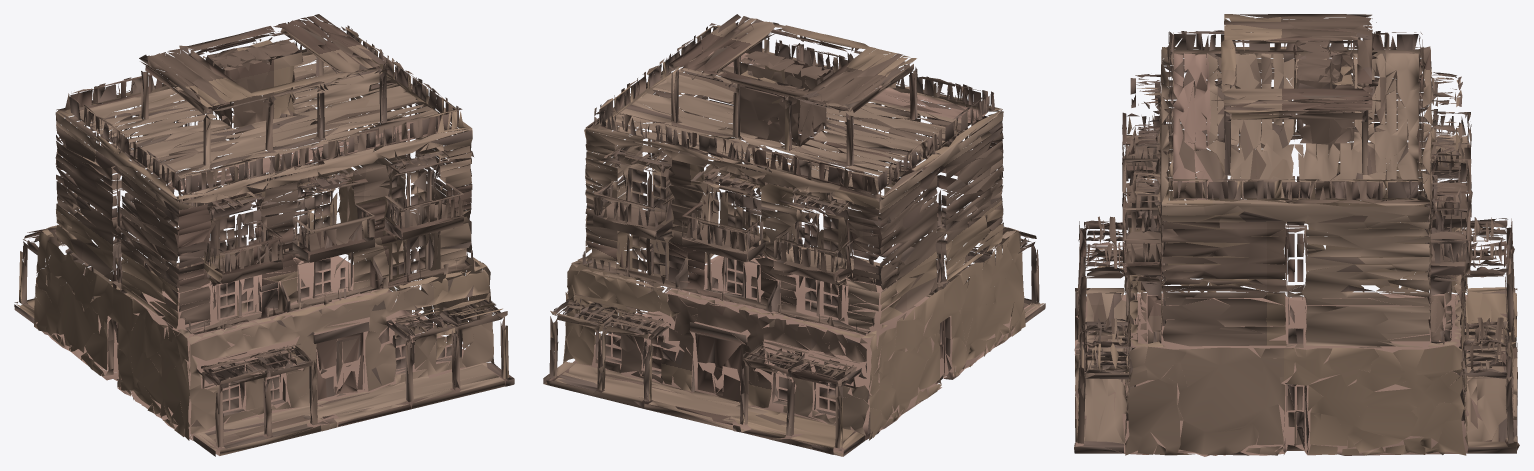
Rendered from hotel.glb.
3 views of the same model, side by side, from view 1: azimuth 30°, elevation 25°; view 2: azimuth 150°, elevation 25°; view 3: azimuth 270°, elevation 25° (orthographic). The views are drawn at different scales.
Parts seen in each view (by area): view 1: LO.001; view 2: LO.001; view 3: LO.001.
Boxes of the visible parts, bbox=[...] form: LO.001: bbox=[14, 14, 514, 456]; LO.001: bbox=[543, 14, 1045, 456]; LO.001: bbox=[1074, 14, 1519, 456].
Bounding box in the file's own units: 1.67 × 1.5 × 1.91.
1 material, 1 textured.
